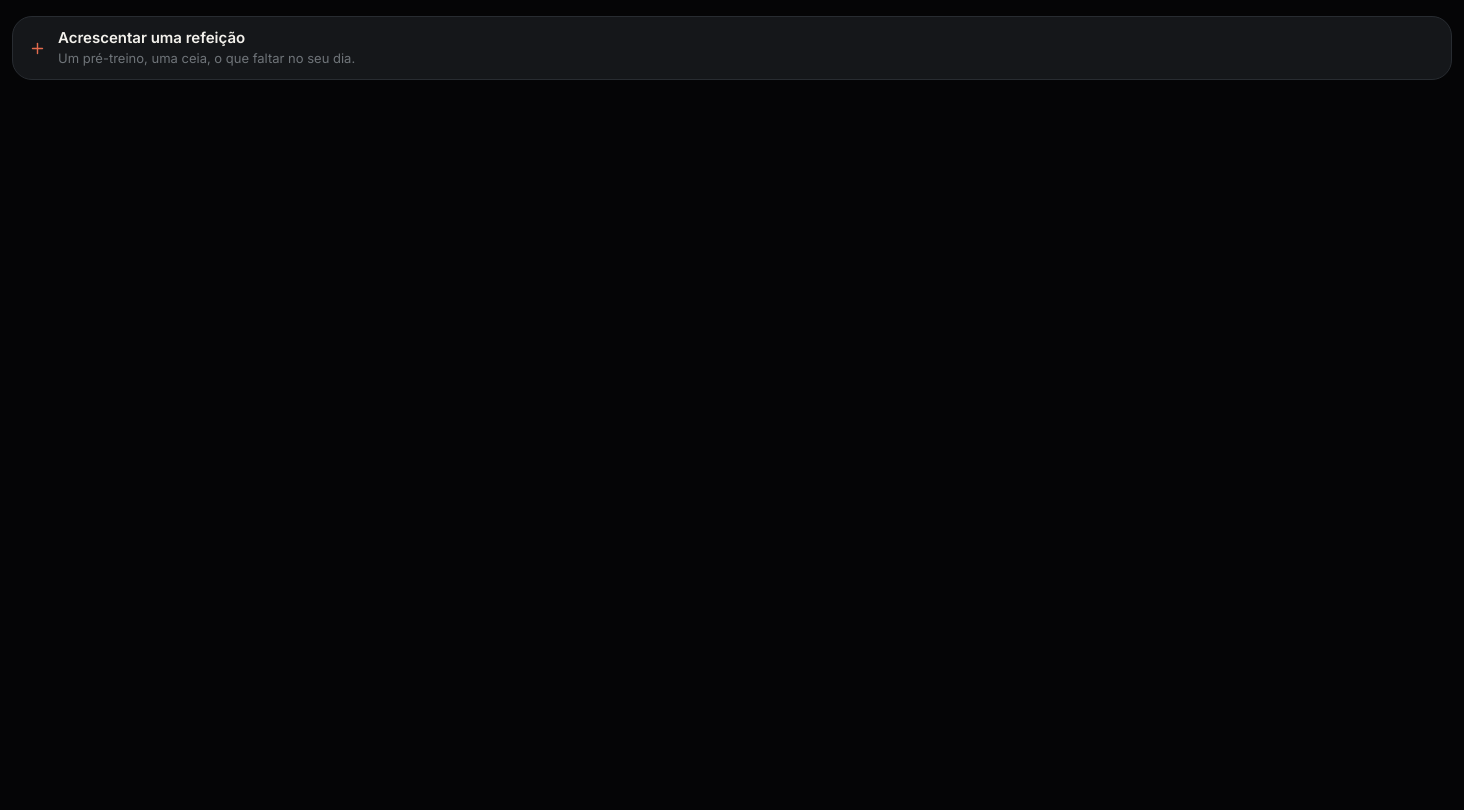
Scenario: falha ao acrescentar mostra o motivo do servidor
Click the button with test id "abrir-acrescentar" at x=152, y=38, box [13,17,1451,79]
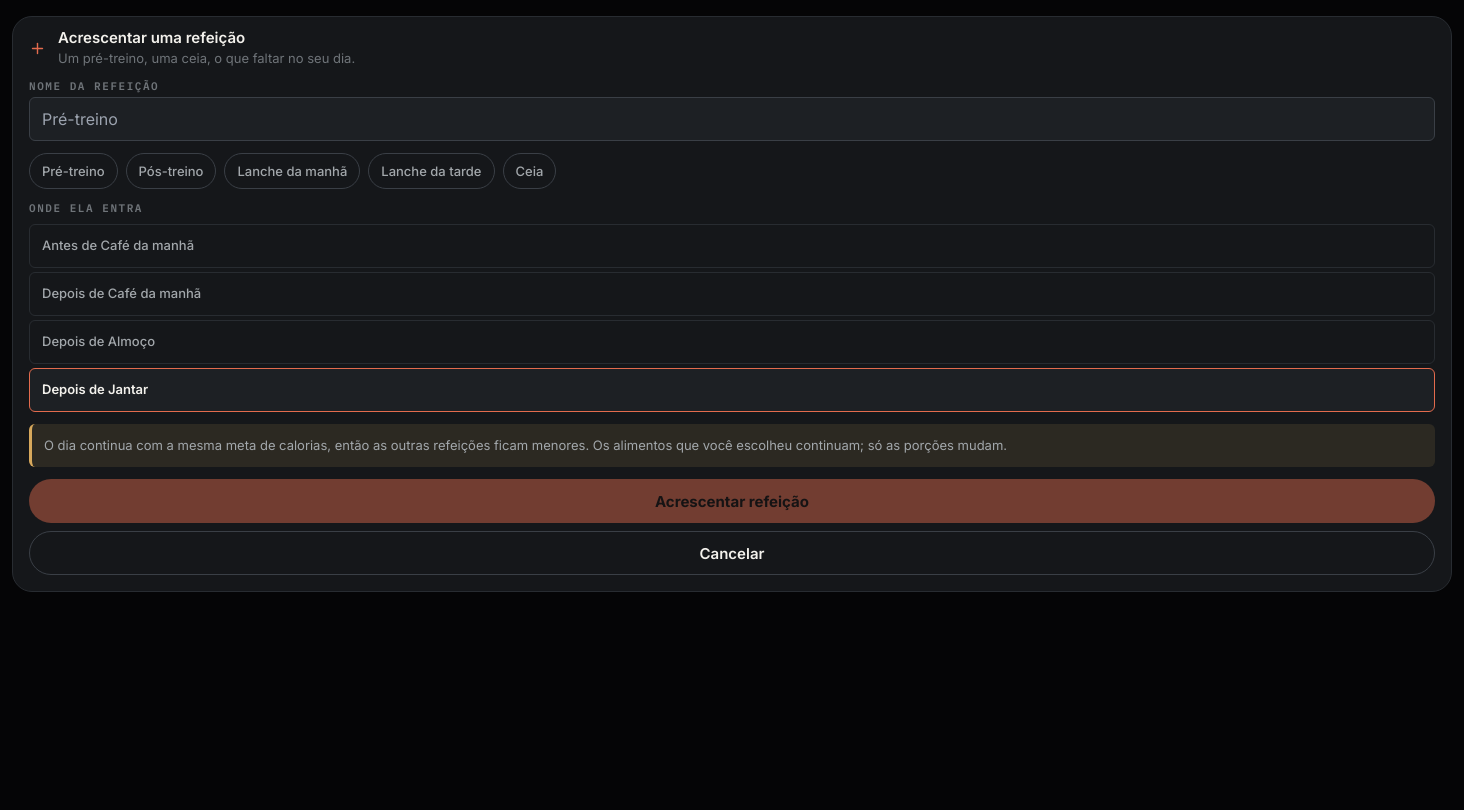
Click the button with test id "sugestao-Ceia" at x=529, y=172, box [502,154,556,190]
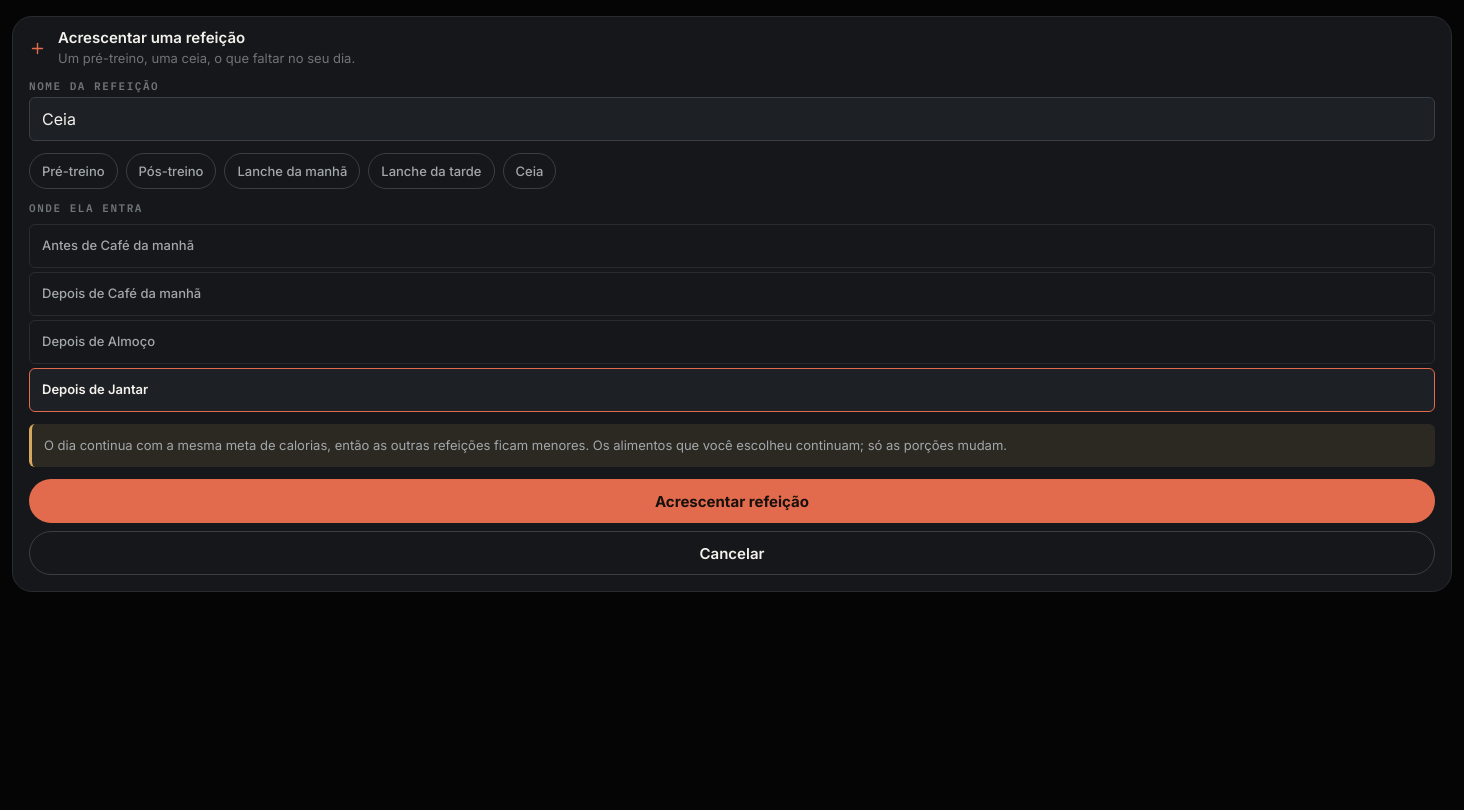
Click the button with test id "salvar-refeicao" at x=732, y=501, box [29,479,1435,523]
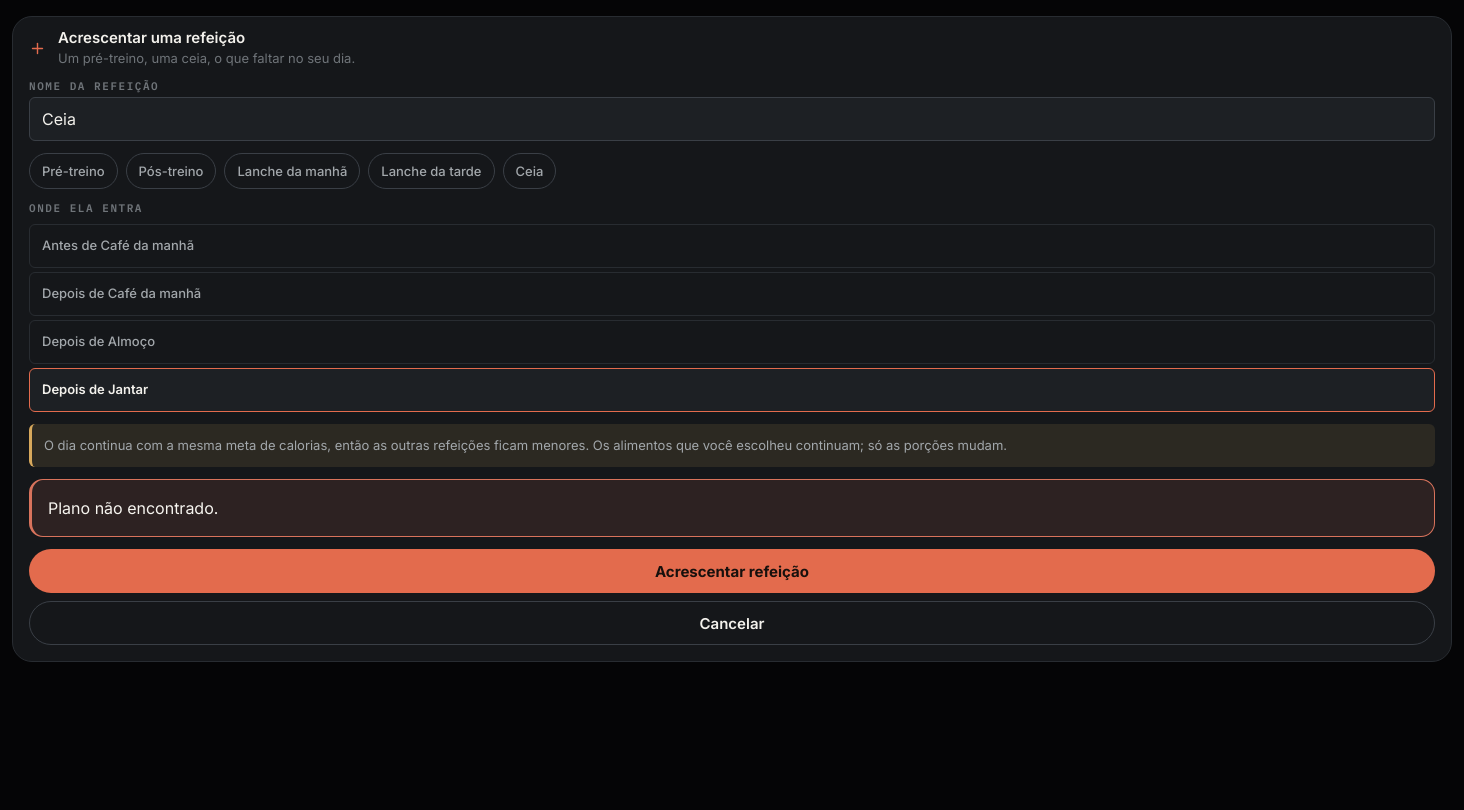
Result: the text "Plano não encontrado" is shown at [48,498,218,518]
